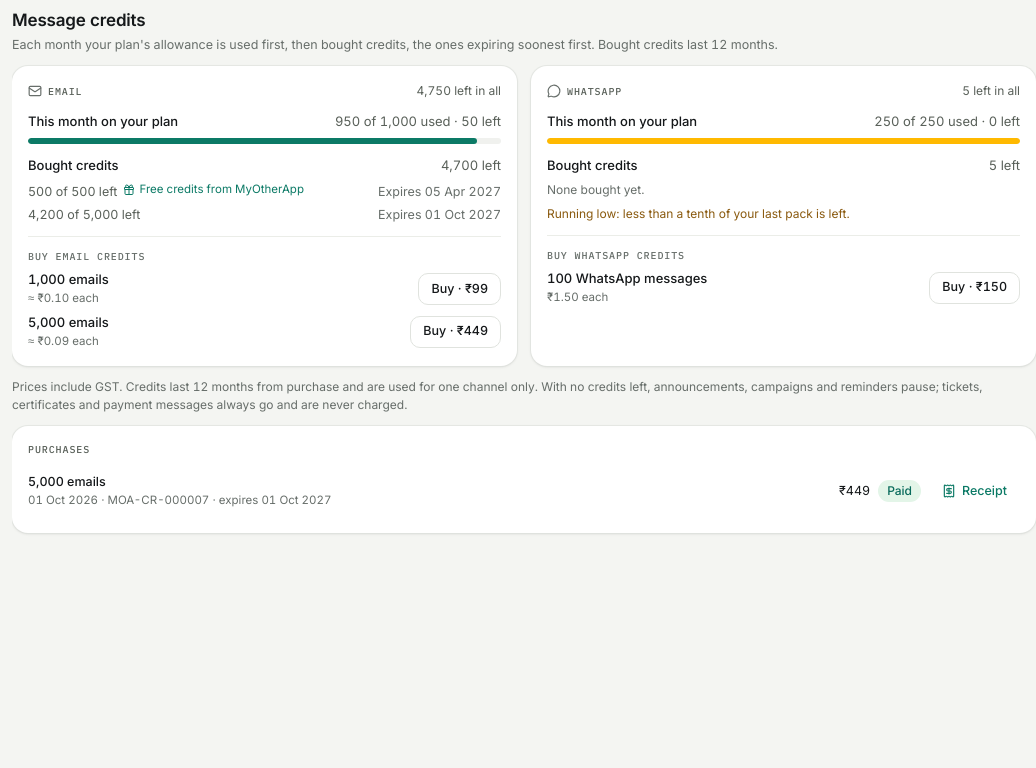
buying a pack › makes an order, opens Razorpay on it, verifies the payment and says the credits are in
The width and height of the screenshot is (1036, 768).
Click the button with aria-label "Buy 1,000 emails for ₹99" at (460, 289), box x1=418 y1=273 x2=501 y2=305
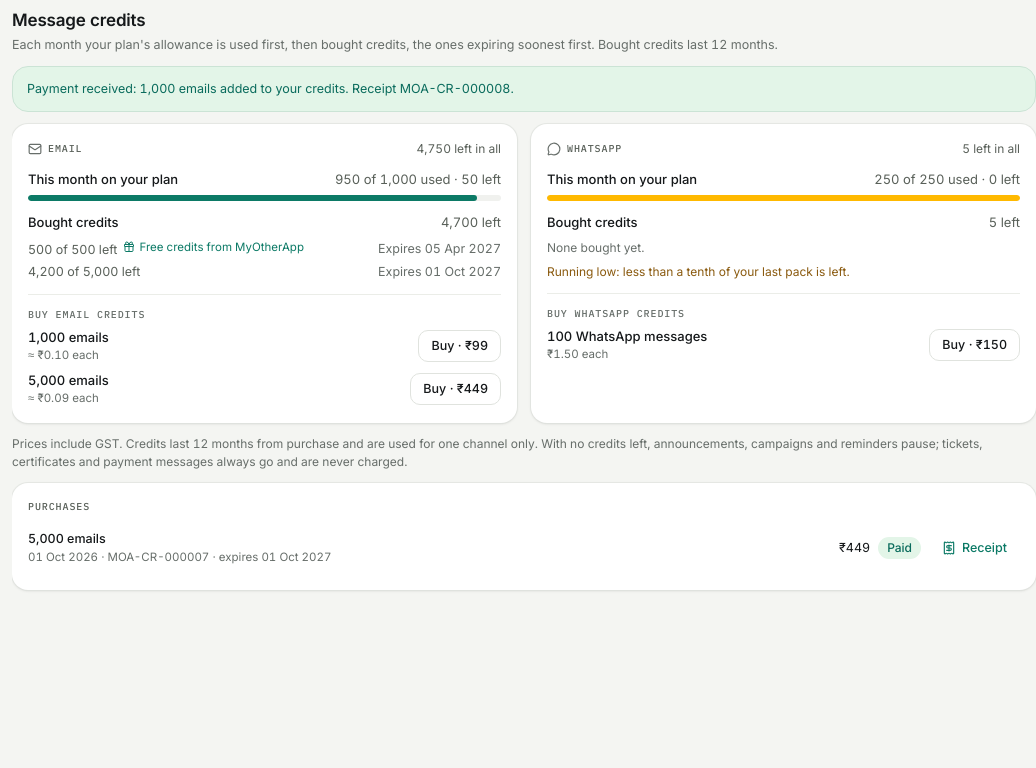
expect the text "Payment received: 1,000 emails added to your credits. Receipt MOA-CR-000008." is shown: met, box x1=27 y1=81 x2=514 y2=96
